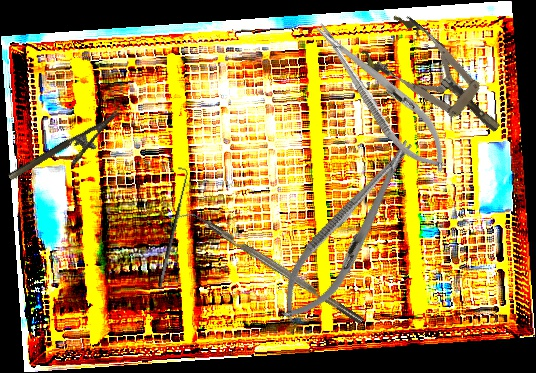Chopper: (176, 203, 365, 333)
Hook Surgical: (148, 165, 194, 288)
Needle Holder: (265, 128, 432, 333), (301, 9, 463, 184), (6, 110, 130, 196)
Speculum: (356, 6, 518, 156)
